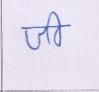i_matra: (49, 11, 64, 47)
